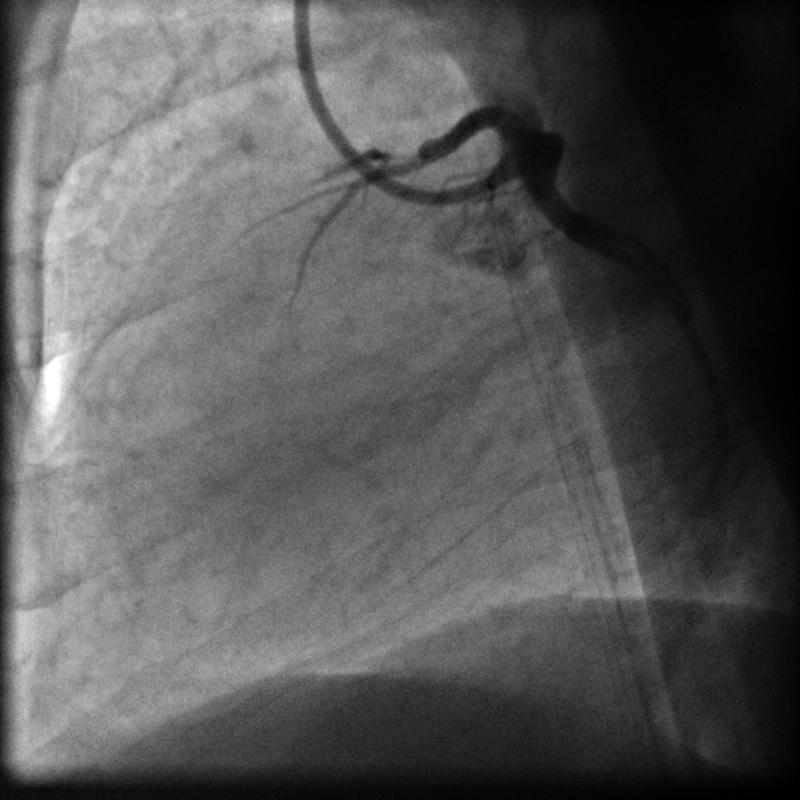Stenosis: (361, 144, 433, 181)
